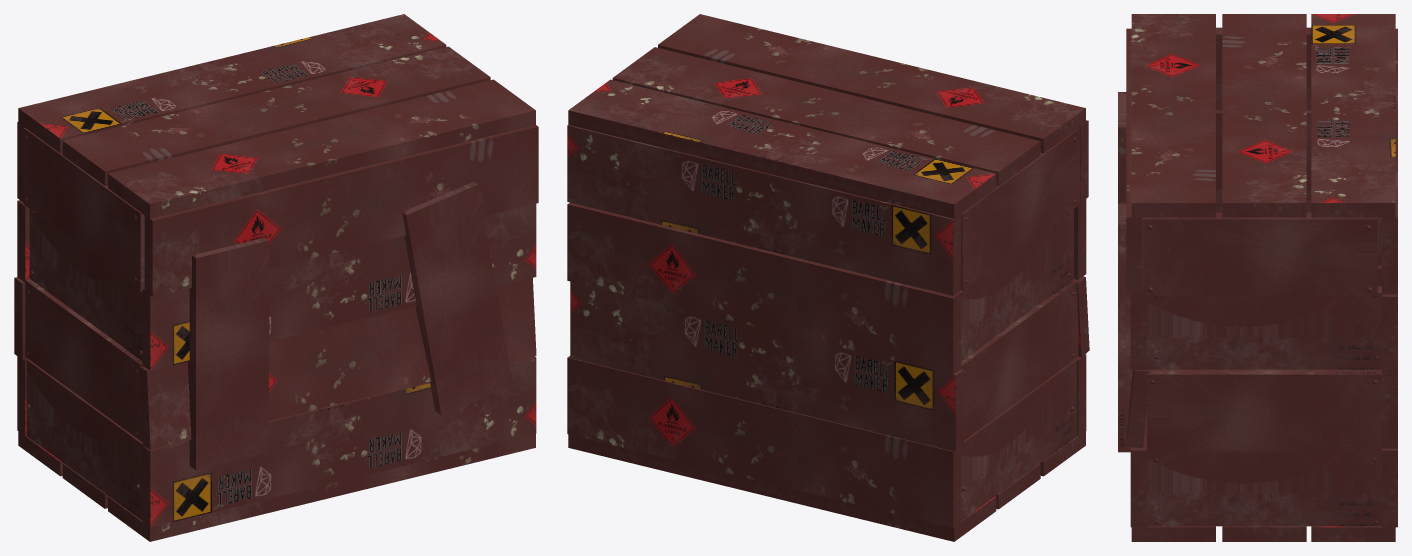
3 renders of one model, left to right at view 1: azimuth 30°, elevation 25°; view 2: azimuth 150°, elevation 25°; view 3: azimuth 270°, elevation 25°, orthographic.
Visible parts, largest first — view 1: SM_box_02; view 2: SM_box_02; view 3: SM_box_02.
Part boxes in pixels (box(x1,y1,x2,y2)): SM_box_02: box(14, 14, 538, 541); SM_box_02: box(567, 14, 1089, 541); SM_box_02: box(1118, 14, 1397, 541).
Size of the model in its own units: 93.01 by 56.99 by 76.15.
